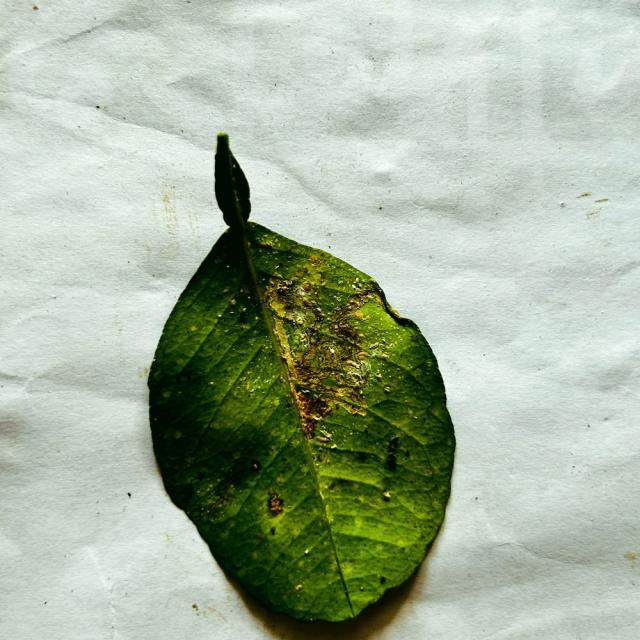Bacterial_Blight: (268, 298, 309, 387), (296, 328, 359, 383), (296, 373, 369, 419), (319, 294, 372, 352), (309, 439, 338, 544), (270, 278, 319, 323), (294, 387, 333, 435), (306, 364, 346, 407), (339, 285, 381, 322), (233, 361, 273, 398), (204, 482, 240, 518), (384, 436, 401, 471), (268, 294, 288, 317), (267, 492, 284, 515), (314, 447, 333, 467), (302, 417, 316, 438), (387, 305, 403, 320), (275, 280, 291, 294)
Lemon: (145, 135, 456, 627)
